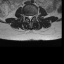CCS_normal: (29, 14, 31, 23)
LFS_severe_stenosis: (33, 12, 34, 18)
LLS_normal: (31, 13, 33, 21)
RFS_stenosis: (25, 13, 27, 18)
RLS_normal: (27, 13, 29, 19)
